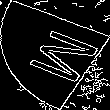M_SE: (11, 23, 99, 87)
